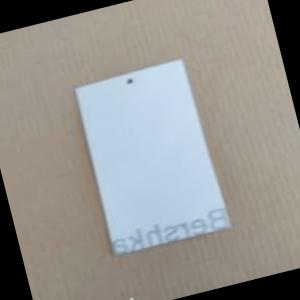bershka: (105, 195, 238, 258)
